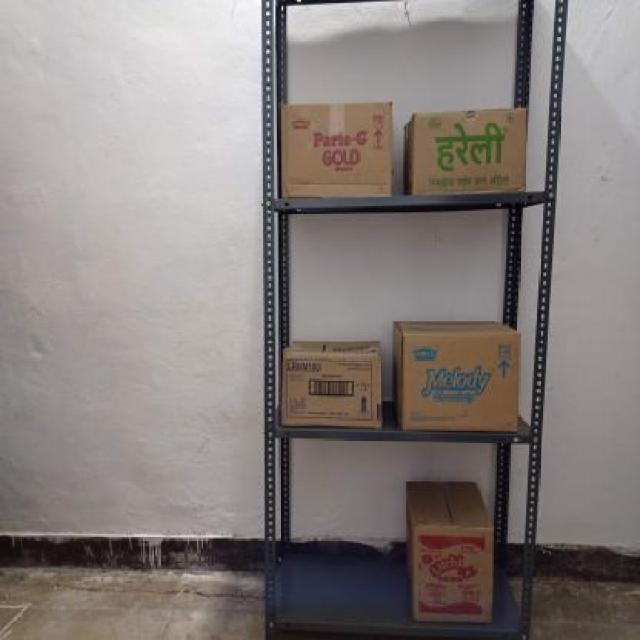box: (399, 330, 518, 432), (278, 98, 394, 200), (411, 111, 526, 191), (412, 524, 494, 620), (283, 349, 382, 426)
